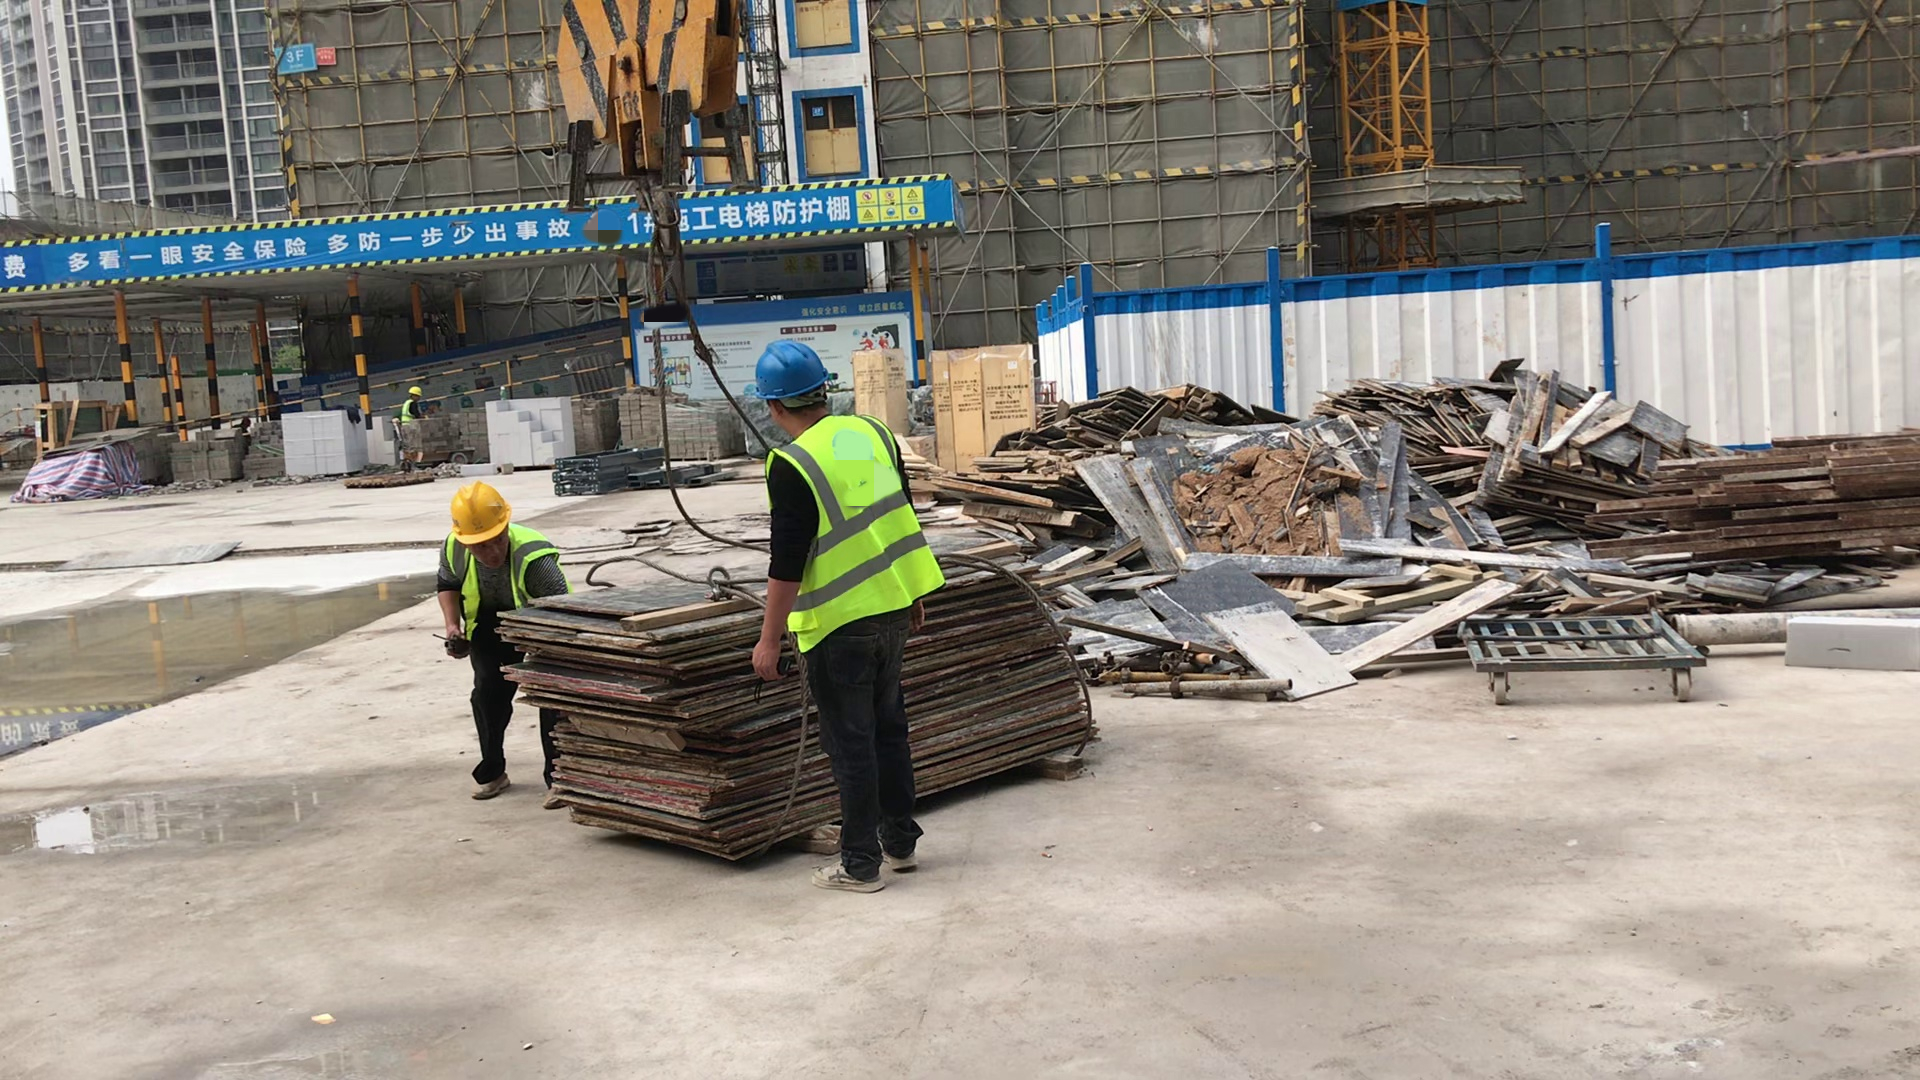board: (494, 587, 1104, 869)
brick: (279, 411, 397, 475), (485, 395, 574, 467)
helmet: (754, 340, 828, 400), (446, 482, 510, 544), (408, 384, 423, 398)
hook: (555, 2, 748, 253)
person: (751, 341, 933, 891), (430, 480, 575, 809), (400, 383, 424, 421)
slogan: (7, 210, 567, 291), (854, 186, 925, 223)
vest: (765, 408, 939, 650), (446, 532, 557, 638), (401, 400, 416, 421)
